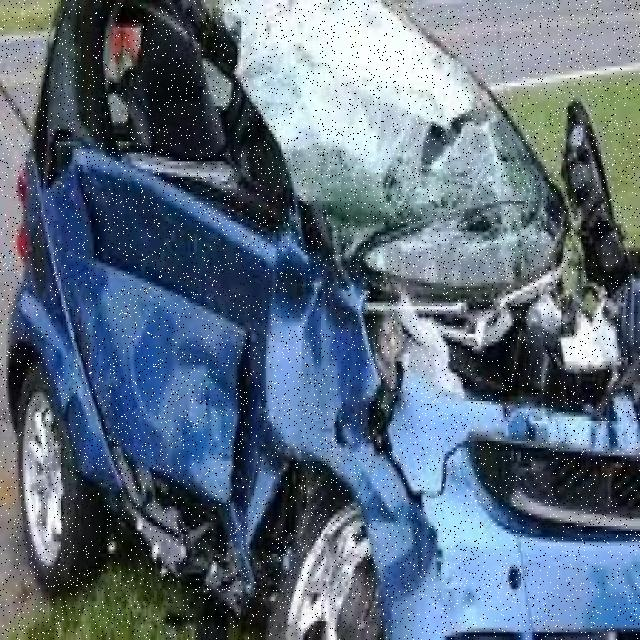damage: (29, 3, 640, 639)
